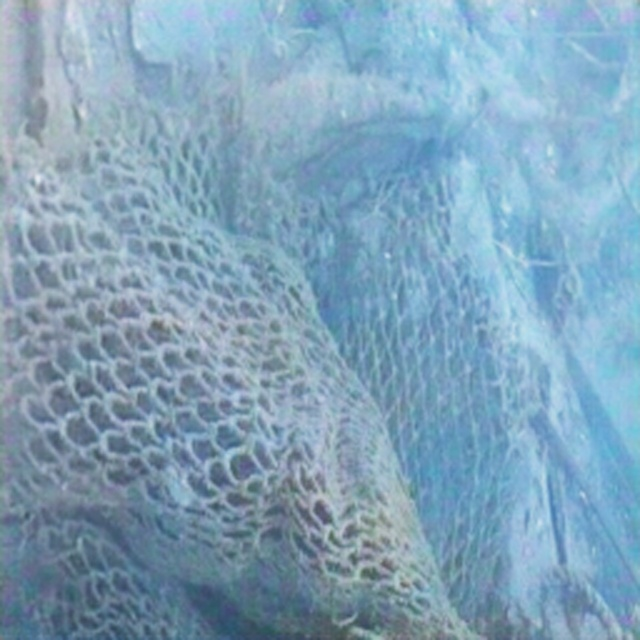mine: (0, 113, 527, 639)
